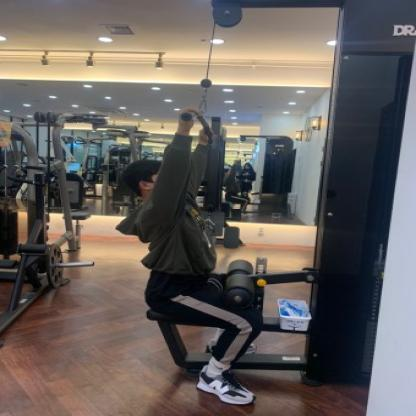Lat Pull Down: (98, 0, 416, 416)
